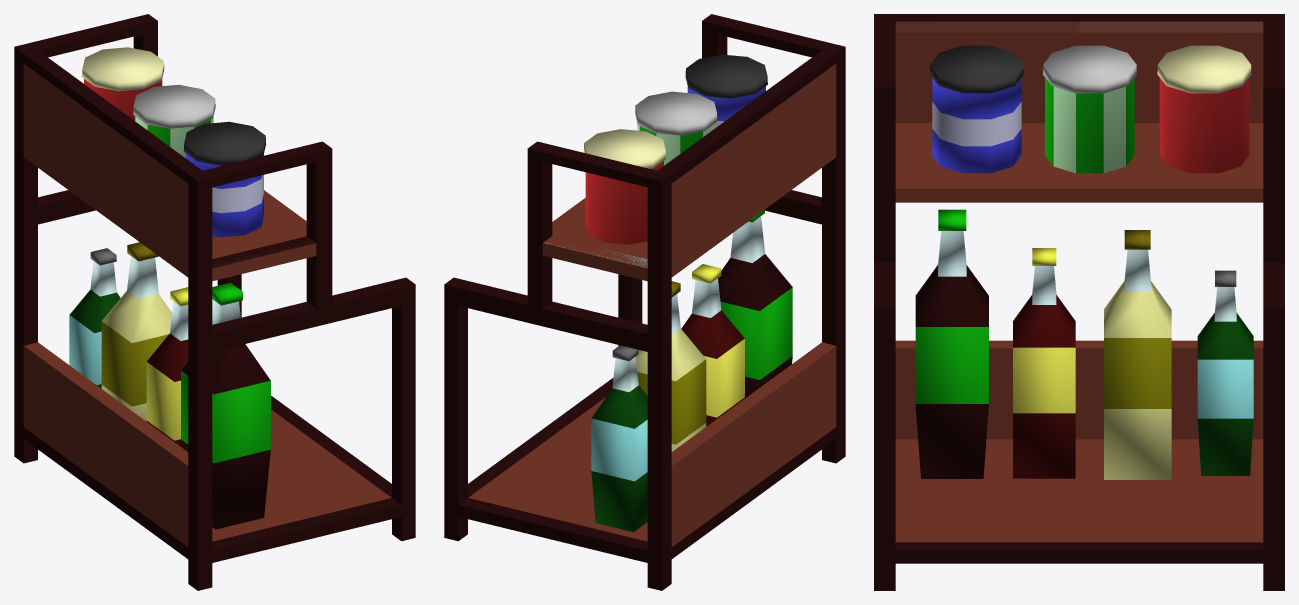
Rendered from SM_SpiceRack.fbx.
3 views of the same model, side by side, from view 1: azimuth 30°, elevation 25°; view 2: azimuth 150°, elevation 25°; view 3: azimuth 270°, elevation 25° (orthographic). The views are drawn at different scales.
Parts seen in each view (by area): view 1: SpiceRack, Spices_04, Spices_07, Spices_02, Spices_05, Spices_06, Spices_01, Spices_03; view 2: SpiceRack, Spices_06, Spices_04, Spices_01, Spices_05, Spices_07, Spices_03, Spices_02; view 3: SpiceRack, Spices_04, Spices_07, Spices_05, Spices_01, Spices_03, Spices_02, Spices_06.
Boxes of the visible parts, x1,y1,x2,y2 form: SpiceRack: [14, 14, 415, 590]; Spices_04: [181, 282, 270, 529]; Spices_07: [101, 242, 171, 421]; Spices_02: [183, 121, 265, 237]; Spices_05: [146, 287, 188, 446]; Spices_06: [69, 248, 120, 388]; Spices_01: [82, 47, 164, 120]; Spices_03: [133, 84, 215, 157]; SpiceRack: [444, 14, 845, 590]; Spices_06: [591, 345, 647, 531]; Spices_04: [718, 209, 792, 398]; Spices_01: [583, 129, 665, 244]; Spices_05: [681, 264, 744, 426]; Spices_07: [635, 281, 706, 451]; Spices_03: [635, 91, 717, 165]; Spices_02: [685, 54, 767, 127]; SpiceRack: [874, 14, 1284, 590]; Spices_04: [915, 209, 988, 478]; Spices_07: [1104, 230, 1171, 479]; Spices_05: [1013, 248, 1075, 478]; Spices_01: [1157, 45, 1251, 173]; Spices_03: [1043, 45, 1136, 173]; Spices_02: [930, 45, 1023, 173]; Spices_06: [1197, 270, 1253, 475].
Bounding box in the file's own units: 0.2579 × 0.4635 × 0.3768.
Materials: 1 (1 with a texture image).
